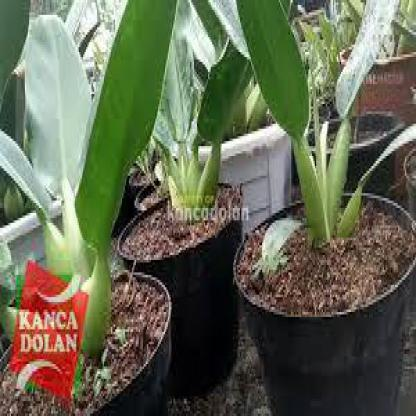Melati: (157, 119, 299, 292)
